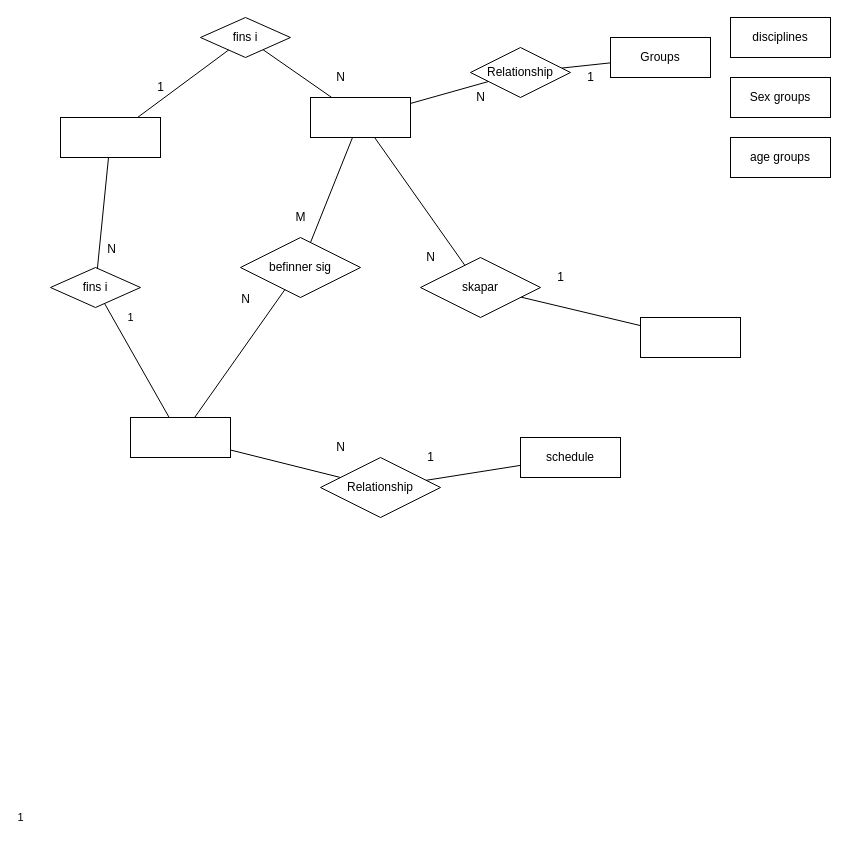
Some shapes in this 848 by 842 pixel diagram are drawn without their labels. The shapes that lost their labels are listed below. From the top down, each one's centre as x and y in pixels, then its label:
At pixel 110 137: "Stations".
At pixel 360 117: "Athletes".
At pixel 690 337: "io".
At pixel 180 437: "sub‐competitions".
